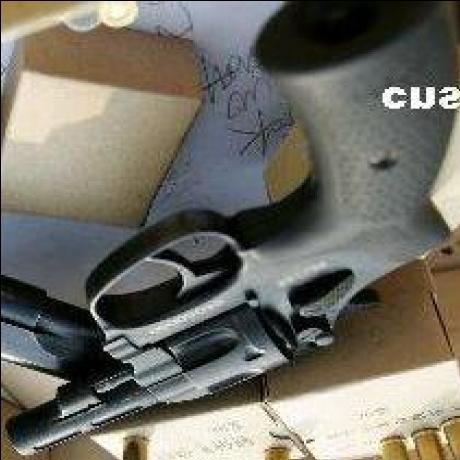weapon: (0, 10, 460, 457)
